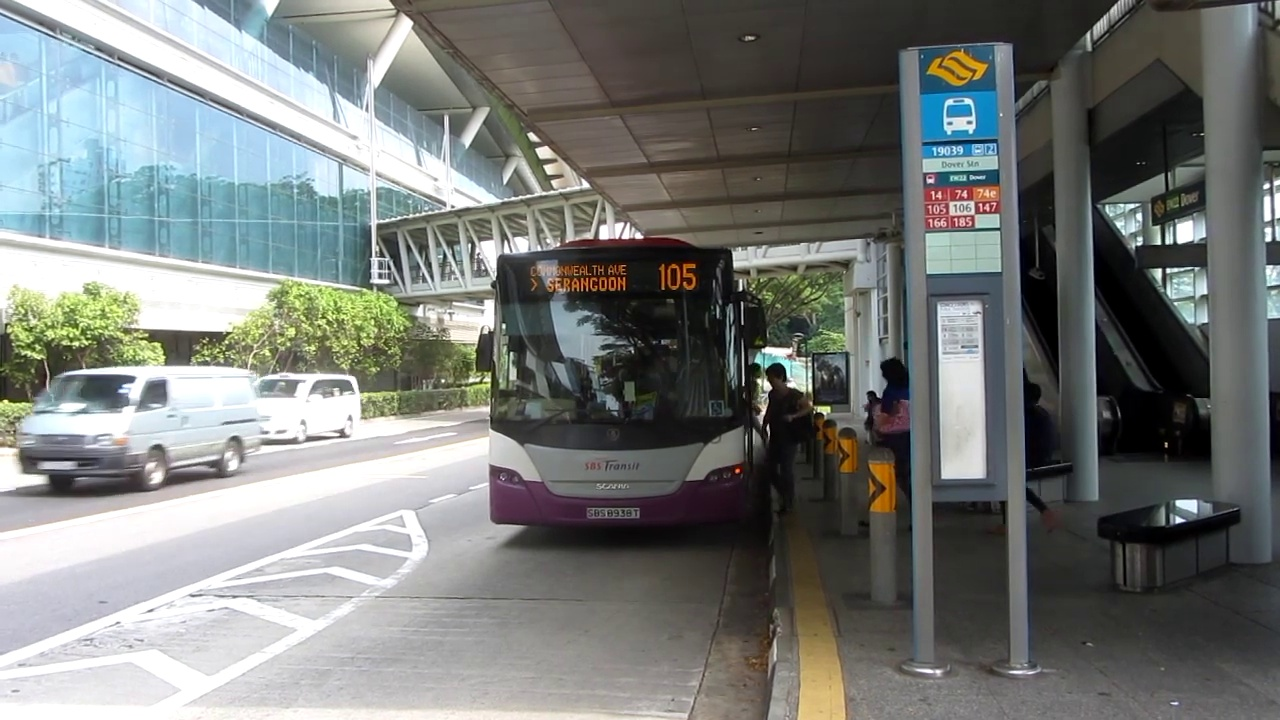bus panel: (525, 260, 701, 295)
